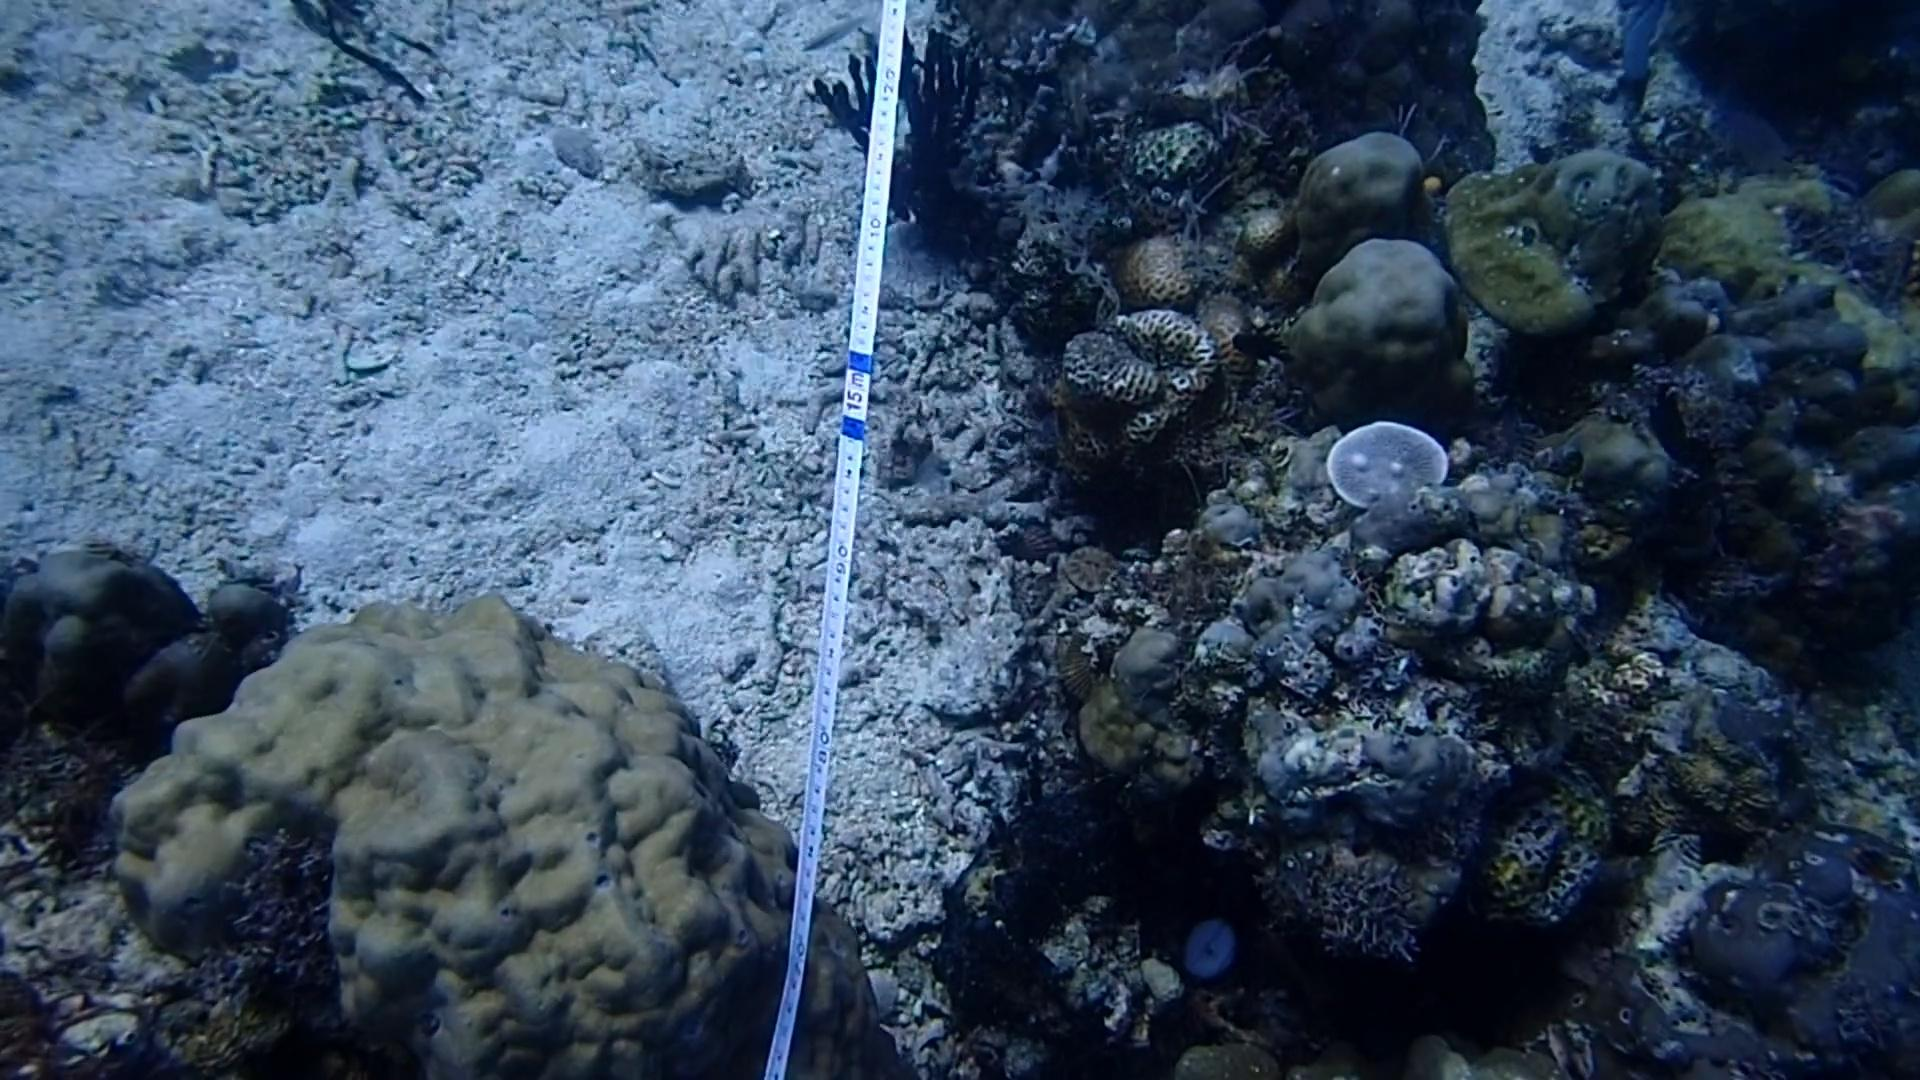Dark Fish: (1640, 380, 1697, 464), (1230, 313, 1287, 373)
